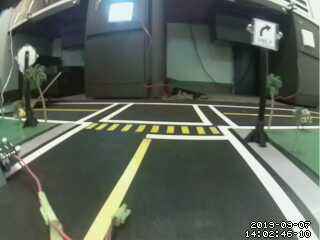Right_only_sign: (244, 15, 281, 53)
